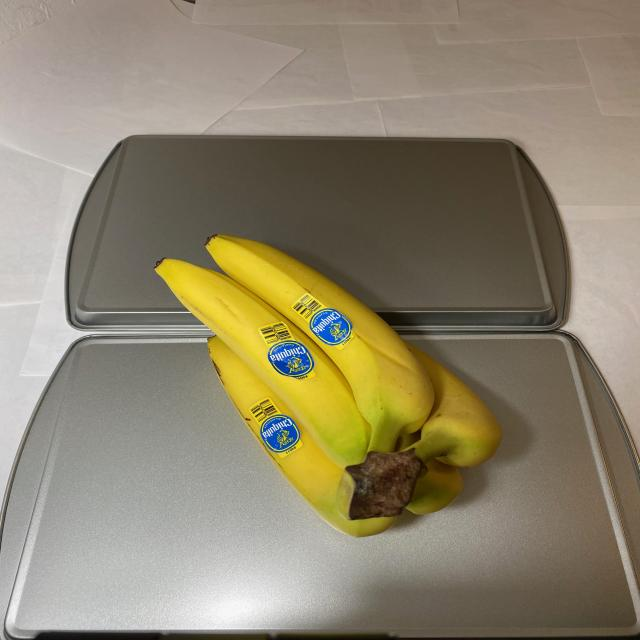Banana: (156, 230, 505, 539)
